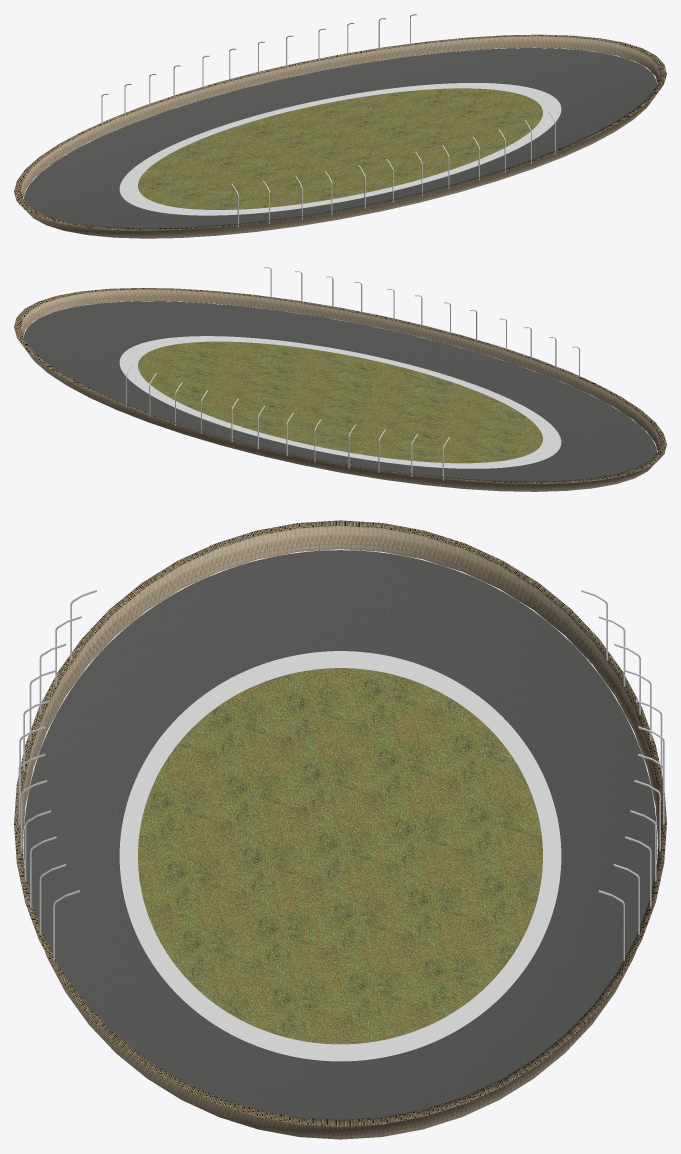
The model's file is track.glb.
3 views of the same model, one above another, from view 1: azimuth 30°, elevation 25°; view 2: azimuth 150°, elevation 25°; view 3: azimuth 270°, elevation 25° (orthographic). The views are drawn at different scales.
Parts seen in each view (by area): view 1: Center-col, Track-col, Walls-col; view 2: Center-col, Track-col, Walls-col; view 3: Center-col, Track-col, Walls-col.
Boxes of the visible parts, x1,y1,x2,y2 form: Center-col: (119,83,561,215); Track-col: (23,48,657,228); Walls-col: (14,34,666,238); Center-col: (119,336,561,468); Track-col: (23,301,657,481); Walls-col: (14,288,666,491); Center-col: (119,651,561,1061); Track-col: (23,550,657,1119); Walls-col: (14,520,666,1139).
Size of the model in its own units: 134 by 10.56 by 61.08.
4 materials, 3 textured.
